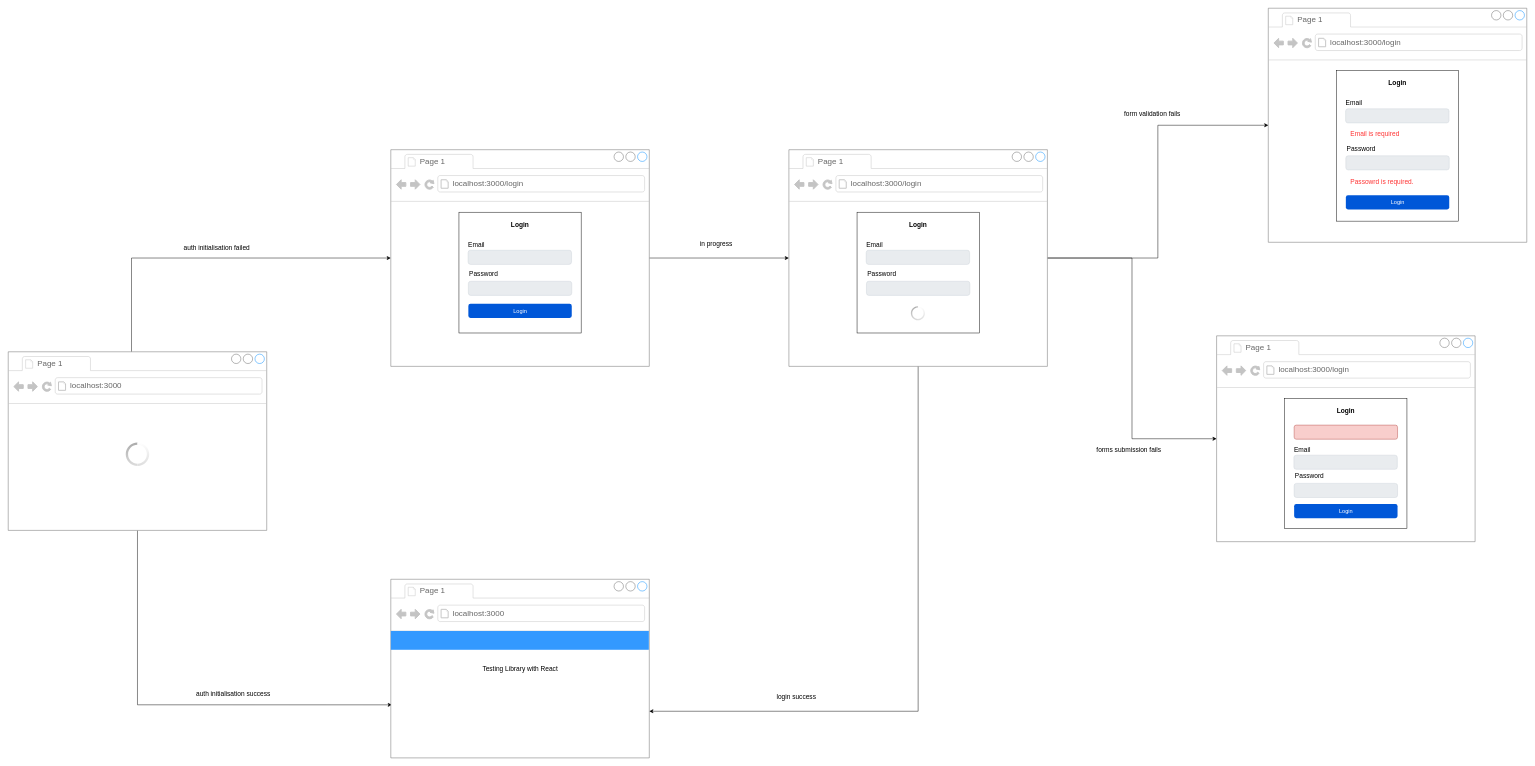
Some shapes in this 1535 by 766 pixel diagram are drawn without their labels. Here are the shapes that lost their labels. From the top down, the box of each, then its label:
(1294, 425, 1398, 439): Invalid email or password.
(391, 631, 649, 650): Jon Doe
